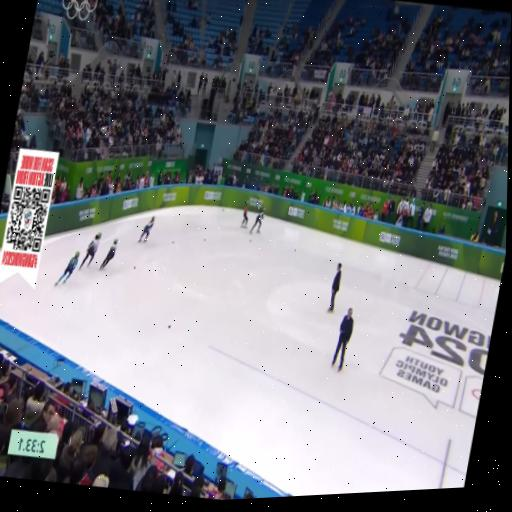Skater: (79, 233, 100, 270), (55, 252, 78, 285), (99, 239, 116, 269), (138, 217, 153, 241), (250, 209, 264, 233), (241, 202, 247, 227)
